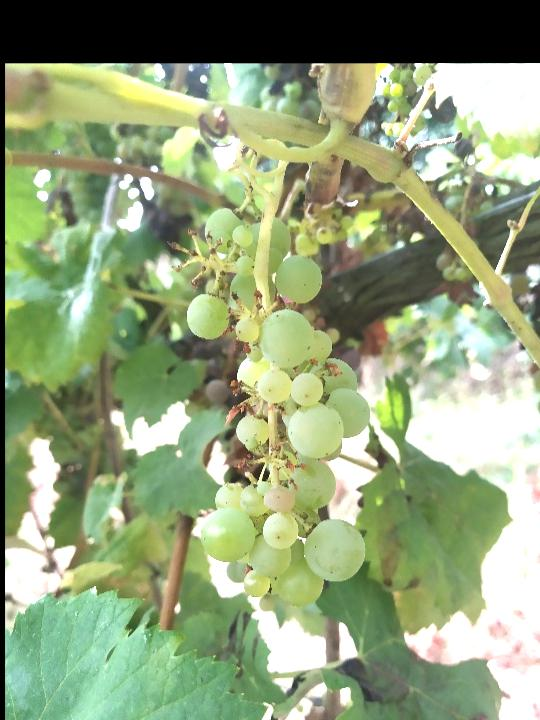grape: (184, 206, 374, 613)
